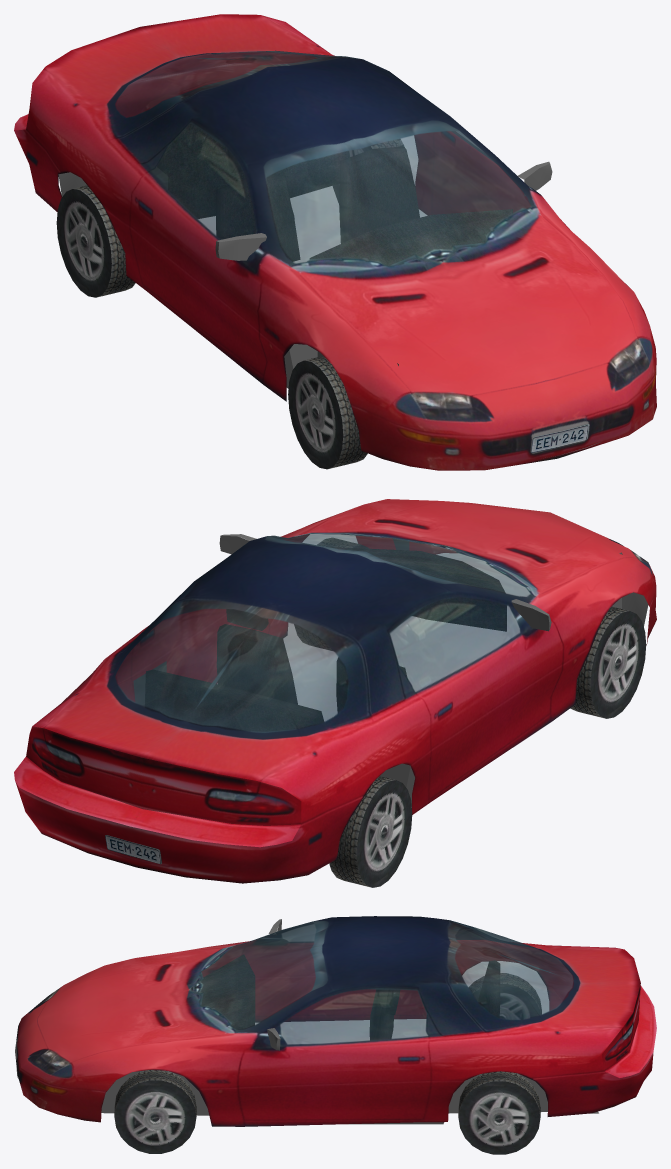
The model's file is HSQC.gltf.
The picture shows the model from 3 angles, top to bottom: view 1: azimuth 30°, elevation 25°; view 2: azimuth 150°, elevation 25°; view 3: azimuth 270°, elevation 25°; orthographic projection. The views are drawn at different scales.
Parts seen in each view (by area): view 1: car121; view 2: car121; view 3: car121.
Part boxes in pixels (bbox=[...]): car121: bbox=[14, 14, 656, 470]; car121: bbox=[14, 499, 656, 887]; car121: bbox=[15, 916, 656, 1154].
Size of the model in its own units: 2.16 by 1.34 by 4.89.
6 materials, 5 textured.
